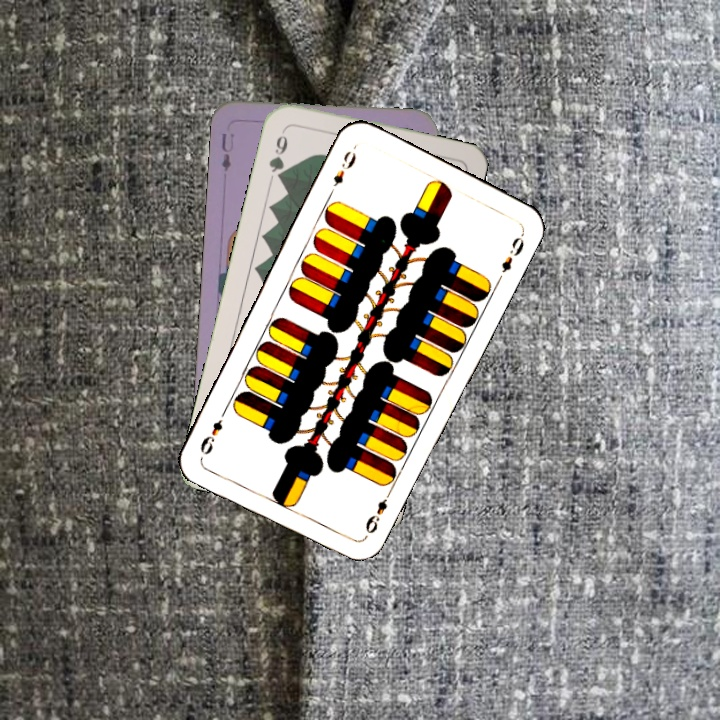E9: (360, 486, 394, 541), (329, 147, 359, 189)
EU: (217, 129, 237, 174)
G9: (264, 124, 290, 184)
